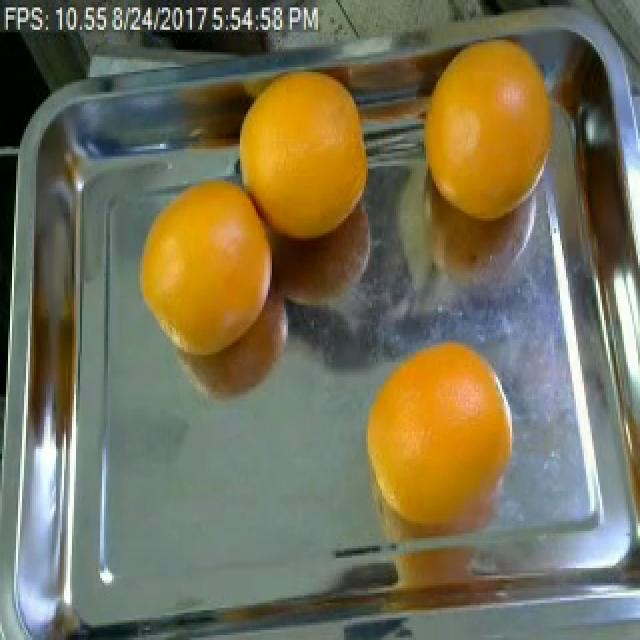Fruit: (350, 320, 536, 526), (402, 12, 568, 236), (124, 159, 286, 362), (220, 57, 372, 268)
